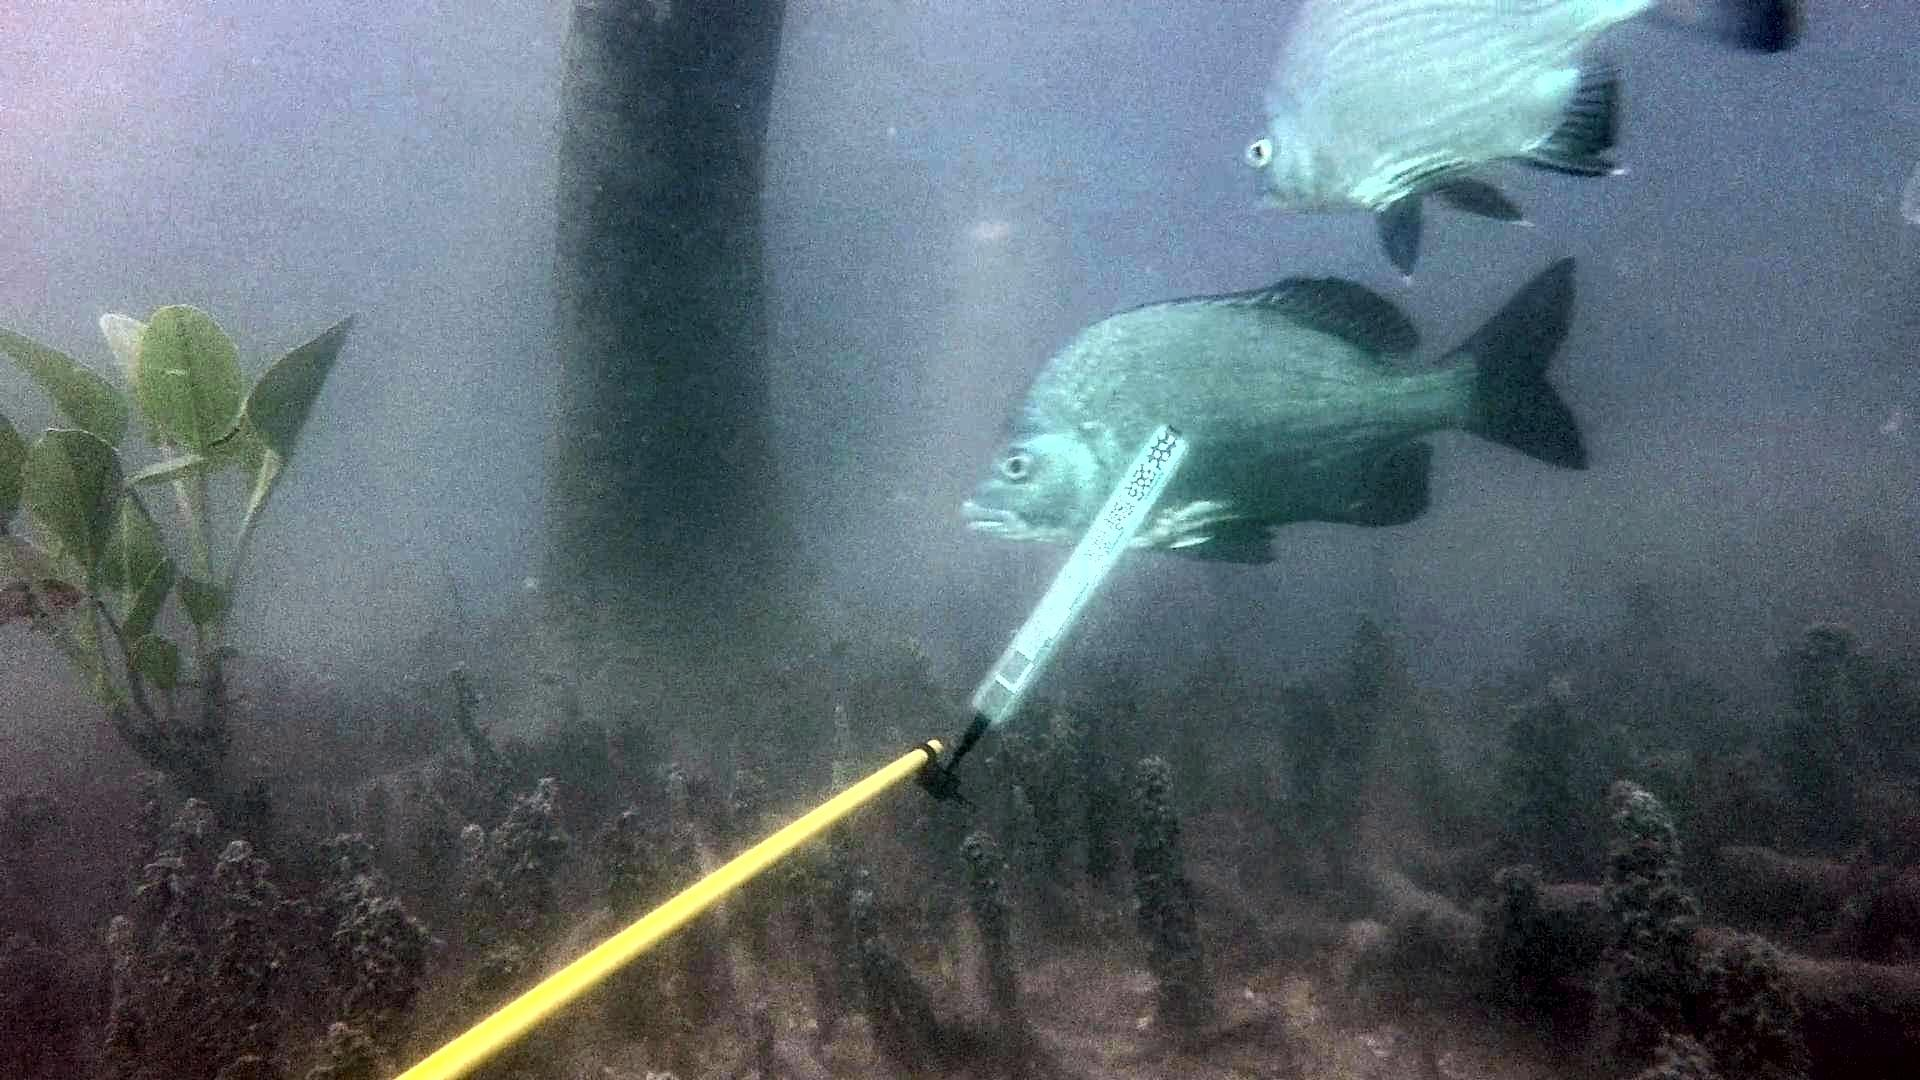acanthopagrus palmaris: (960, 253, 1604, 578), (1228, 0, 1837, 286)
